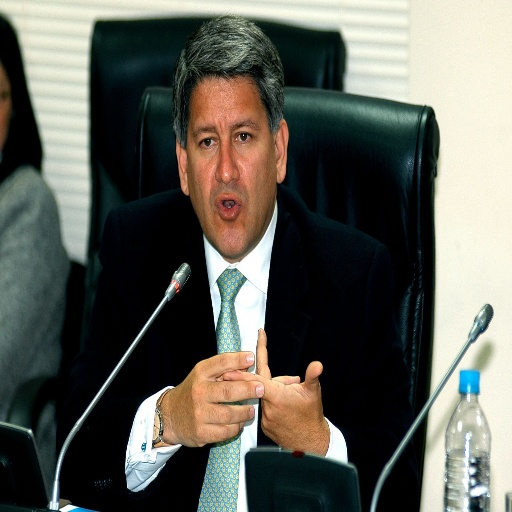hand: (220, 325, 328, 457), (155, 347, 278, 462)
